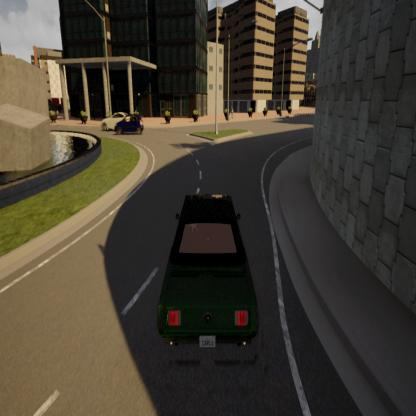Cars: (145, 180, 265, 373), (99, 103, 134, 136), (112, 113, 146, 138)
